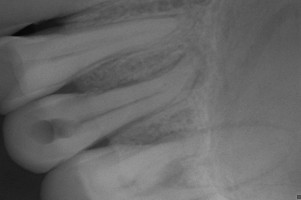Furcation Involvement: (174, 43, 208, 90)
